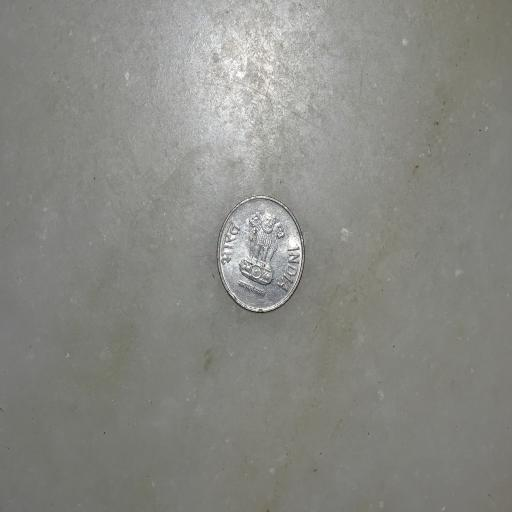rupee2: (213, 193, 308, 315)
